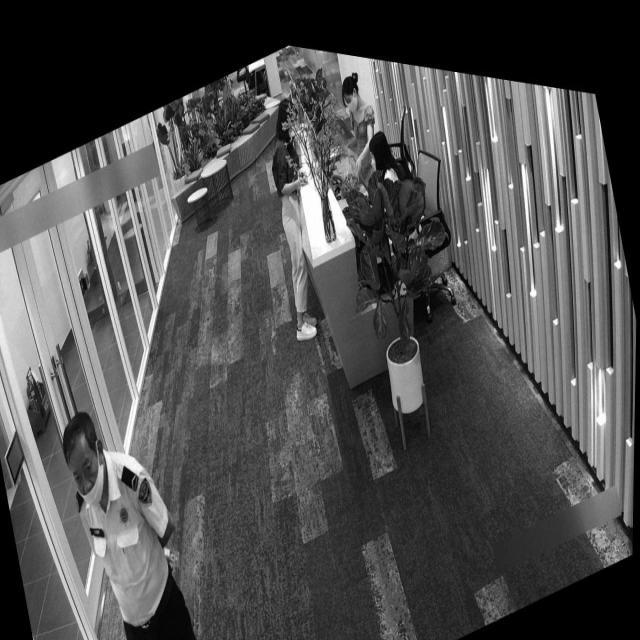hairnet: (74, 444, 112, 512)
